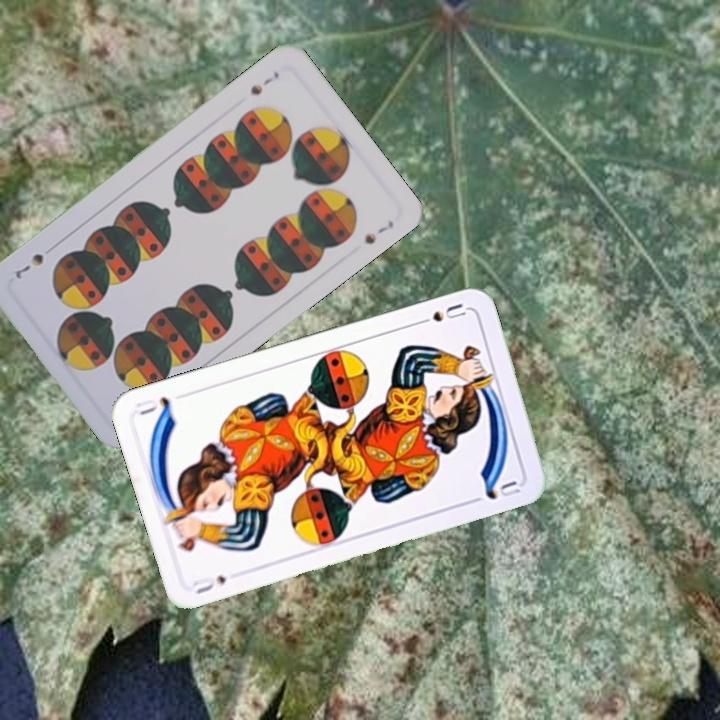S7: (246, 67, 282, 98)
SU: (411, 299, 469, 328), (189, 571, 229, 597)
